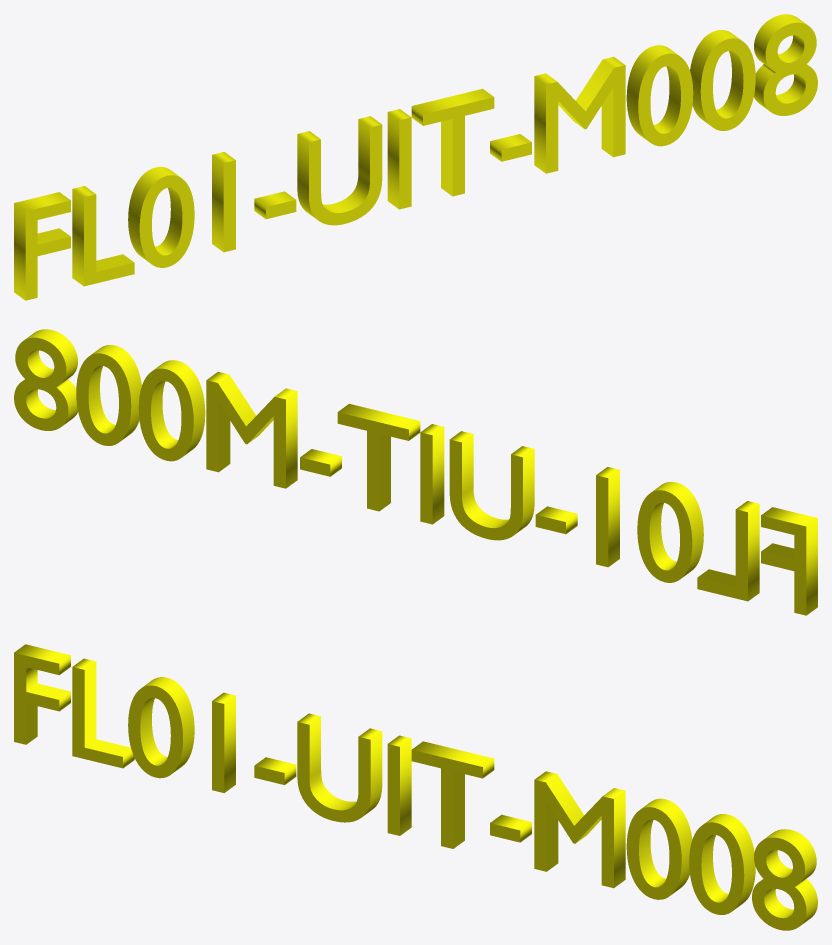
Rendered from FL01-UIT-M008.glb.
3 views of the same model, one above another, from view 1: azimuth 30°, elevation 25°; view 2: azimuth 150°, elevation 25°; view 3: azimuth 330°, elevation 25° (orthographic).
Parts seen in each view (by area): view 1: Text; view 2: Text; view 3: Text.
Boxes of the visible parts, left/top/right/bottom form: Text: left=14, top=14, right=817, bottom=300; Text: left=14, top=329, right=817, bottom=615; Text: left=14, top=644, right=817, bottom=930.
Bounding box in the file's own units: 6.34 × 0.7 × 0.16.
